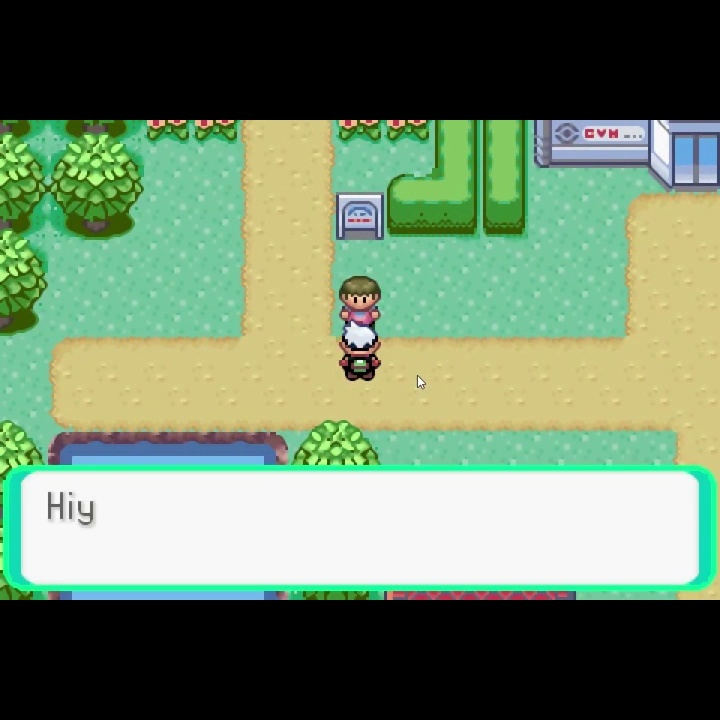gym: (531, 117, 720, 194)
npc: (337, 322, 384, 384), (337, 274, 384, 325)
wall: (48, 137, 145, 240), (1, 230, 49, 338), (1, 137, 48, 235), (287, 420, 381, 465), (1, 419, 48, 465), (49, 121, 145, 141), (1, 119, 50, 140)
